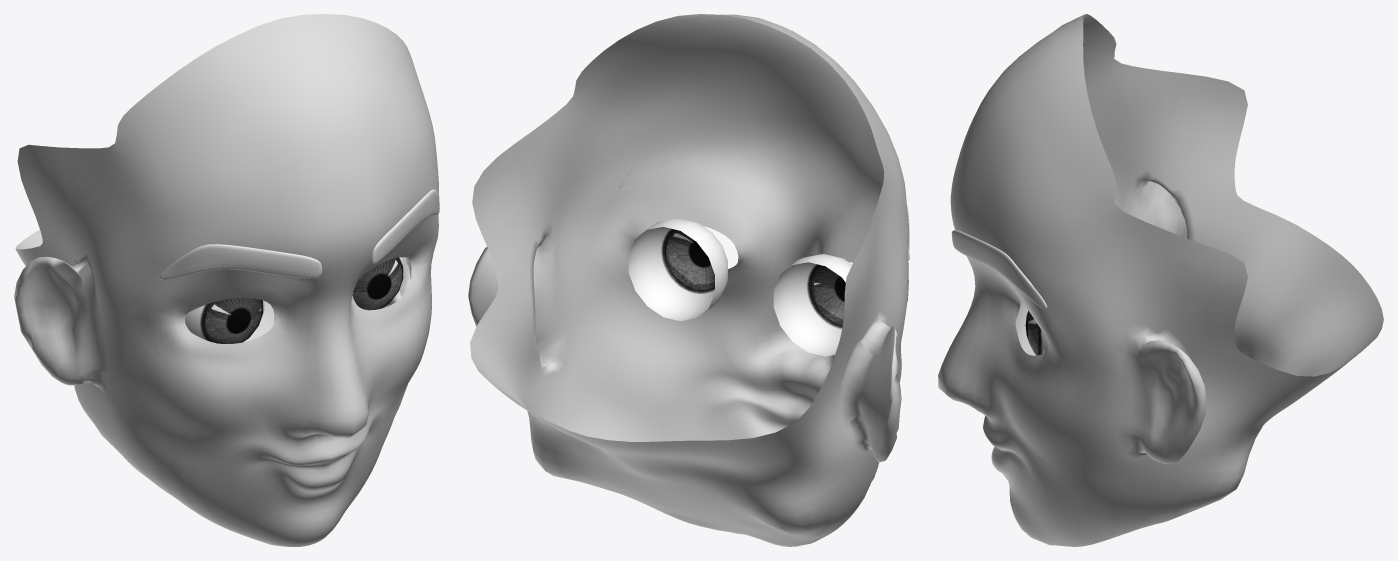
The model's file is male_head_happy.fbx.
The picture shows the model from 3 angles, left to right: view 1: azimuth 30°, elevation 25°; view 2: azimuth 150°, elevation 25°; view 3: azimuth 270°, elevation 25°; orthographic projection. The views are drawn at different scales.
Visible parts, largest first — view 1: male_face_ur, eyeball_right_ur, eyeball_left_ur; view 2: male_face_ur, eyeball_left_ur, eyeball_right_ur; view 3: male_face_ur, eyeball_left_ur.
Boxes of the visible parts, <box> form: male_face_ur: <box>14,14,439,546</box>; eyeball_right_ur: <box>185,298,264,343</box>; eyeball_left_ur: <box>352,257,404,310</box>; male_face_ur: <box>468,14,909,546</box>; eyeball_left_ur: <box>628,218,727,321</box>; eyeball_right_ur: <box>773,254,852,356</box>; male_face_ur: <box>938,14,1383,546</box>; eyeball_left_ur: <box>1025,311,1048,355</box>.
Size of the model in its own units: 68.97 by 80.97 by 65.07.
